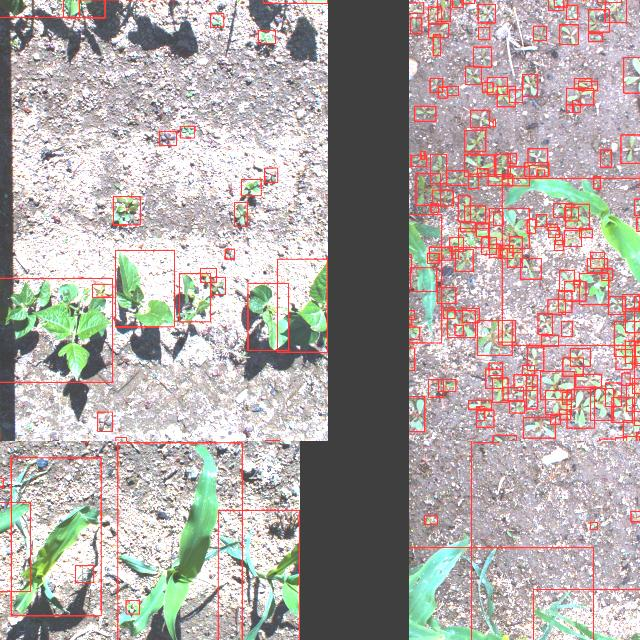crop: (117, 443, 242, 640), (501, 178, 640, 345), (409, 547, 593, 640), (11, 458, 101, 616), (409, 441, 471, 640), (0, 278, 111, 382), (218, 510, 300, 640), (534, 590, 640, 640), (278, 260, 328, 352), (116, 250, 174, 326), (409, 214, 441, 343), (248, 284, 288, 350), (0, 502, 29, 591), (179, 274, 211, 322), (0, 0, 79, 17), (63, 0, 105, 17)
weed: (489, 208, 529, 248), (476, 320, 512, 356), (567, 390, 595, 428), (541, 372, 575, 400), (614, 321, 640, 356), (580, 274, 608, 304), (447, 310, 475, 338), (416, 173, 440, 205), (590, 388, 614, 420), (114, 197, 140, 225), (464, 154, 494, 176), (523, 418, 555, 438), (410, 268, 436, 292), (545, 390, 571, 414), (458, 228, 488, 248), (566, 204, 590, 228), (624, 57, 640, 93), (621, 134, 640, 163), (409, 396, 424, 431), (588, 10, 610, 32), (464, 130, 486, 152), (605, 0, 626, 23), (430, 154, 446, 184), (612, 398, 632, 422), (566, 88, 594, 104), (564, 281, 586, 301), (521, 258, 541, 280), (496, 85, 516, 106), (508, 167, 530, 186), (455, 249, 473, 271), (498, 320, 516, 342), (562, 358, 584, 376), (626, 384, 640, 412), (528, 347, 544, 371), (492, 378, 508, 402), (605, 383, 621, 407), (464, 205, 486, 222), (576, 374, 602, 388), (560, 25, 578, 45), (473, 47, 491, 67), (470, 110, 490, 128), (528, 148, 548, 166), (625, 309, 640, 333), (570, 349, 590, 367), (623, 420, 640, 441), (414, 106, 436, 122), (522, 74, 538, 96), (446, 170, 468, 186), (525, 162, 549, 176), (625, 341, 640, 363), (622, 294, 640, 312), (608, 296, 626, 314), (241, 180, 261, 196), (487, 78, 507, 94), (432, 190, 452, 206), (587, 258, 607, 274), (506, 248, 522, 268), (436, 287, 456, 303), (616, 350, 632, 370), (486, 369, 502, 389), (235, 202, 248, 226), (496, 154, 510, 176), (560, 270, 574, 292), (558, 290, 572, 312), (159, 130, 177, 146), (478, 4, 494, 22), (465, 66, 481, 84), (488, 174, 512, 186), (458, 196, 470, 220), (564, 230, 582, 246), (514, 375, 532, 391), (476, 411, 494, 427), (75, 566, 93, 582), (437, 0, 450, 22), (92, 284, 112, 298), (98, 412, 112, 432), (428, 23, 448, 37), (538, 314, 552, 334), (526, 386, 538, 409), (428, 379, 444, 396), (429, 248, 451, 260), (502, 388, 524, 400), (210, 278, 226, 294), (428, 6, 442, 24), (553, 204, 571, 218), (548, 300, 566, 314), (468, 400, 492, 410), (258, 31, 276, 44), (201, 268, 217, 282), (591, 252, 605, 268), (482, 238, 496, 254), (462, 308, 478, 322), (438, 379, 456, 391), (600, 150, 612, 167), (210, 13, 224, 27), (264, 168, 278, 182), (564, 207, 578, 221), (449, 237, 463, 251), (488, 362, 502, 376), (126, 600, 140, 614), (566, 4, 578, 20), (410, 18, 422, 34), (510, 237, 522, 253), (574, 79, 592, 89), (432, 34, 440, 56), (410, 156, 426, 167), (180, 126, 194, 138), (430, 78, 442, 92), (534, 26, 546, 40), (489, 244, 501, 258), (499, 246, 513, 258), (526, 376, 538, 390), (510, 401, 524, 413), (578, 82, 598, 90), (542, 336, 558, 346), (409, 2, 423, 13), (478, 26, 489, 40), (548, 0, 563, 10), (510, 90, 522, 102), (476, 224, 488, 236), (468, 174, 478, 188), (493, 212, 503, 226), (460, 222, 474, 232), (562, 322, 572, 336), (492, 435, 515, 441), (409, 326, 419, 339), (437, 86, 447, 98), (536, 214, 546, 226), (548, 227, 560, 237), (580, 228, 592, 238), (602, 269, 612, 281), (427, 253, 439, 263), (522, 365, 534, 375), (632, 378, 640, 393), (562, 392, 572, 404), (409, 347, 414, 370), (588, 34, 602, 42), (527, 219, 535, 233), (476, 407, 484, 421), (424, 516, 438, 524), (447, 86, 458, 96), (225, 249, 235, 259), (482, 82, 492, 92), (554, 241, 564, 251), (444, 308, 454, 318), (454, 325, 464, 335), (560, 410, 570, 420), (631, 510, 640, 521), (554, 0, 568, 7), (572, 100, 580, 112), (634, 199, 640, 215), (622, 373, 630, 385), (508, 154, 516, 164), (550, 416, 560, 424), (623, 436, 639, 441), (546, 224, 558, 230), (452, 247, 458, 259), (594, 177, 600, 189), (453, 0, 463, 7), (477, 168, 488, 174), (430, 204, 438, 212), (566, 105, 574, 113), (590, 522, 598, 530), (556, 235, 562, 245), (537, 170, 545, 177), (615, 437, 626, 441), (637, 217, 640, 231), (461, 0, 474, 3), (409, 310, 413, 319), (421, 151, 425, 159), (573, 280, 581, 284), (0, 477, 3, 486), (492, 120, 496, 126)
